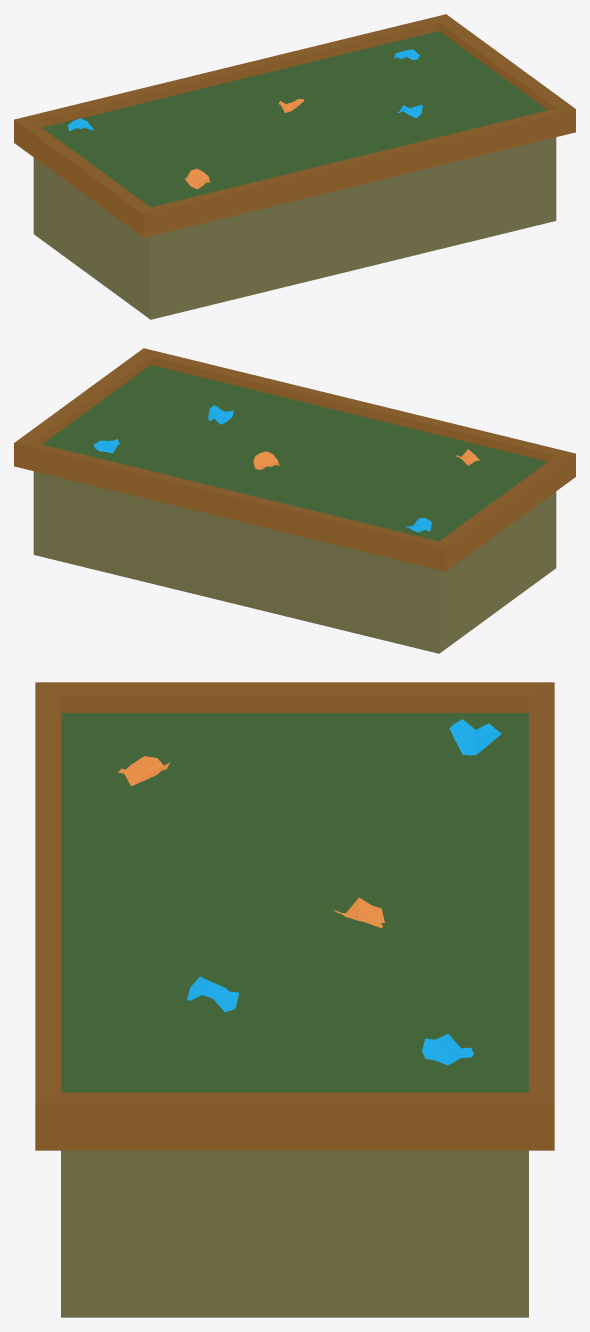
Rendered from half_block.glb.
The picture shows the model from 3 angles, top to bottom: view 1: azimuth 30°, elevation 25°; view 2: azimuth 150°, elevation 25°; view 3: azimuth 270°, elevation 25°; orthographic projection. The views are drawn at different scales.
Parts seen in each view (by area): view 1: Half_Cube; view 2: Half_Cube; view 3: Half_Cube.
Boxes of the visible parts, x1,y1,x2,y2 form: Half_Cube: (14,14,575,319); Half_Cube: (14,348,575,653); Half_Cube: (35,682,554,1317).
Size of the model in its own units: 2.13 by 0.5371 by 1.11.
